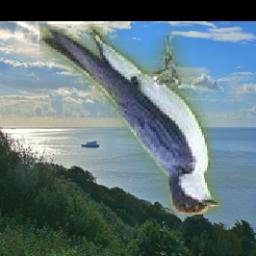Swallow: (41, 24, 223, 215)
